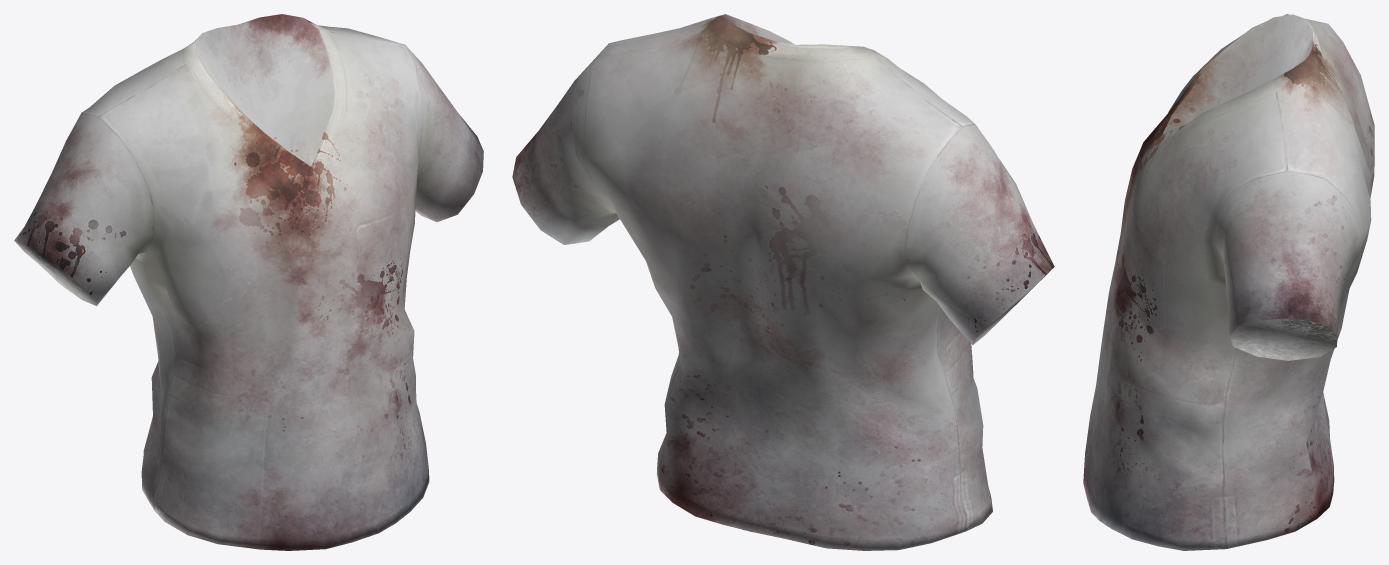
Rendered from SurvivorMale_Chest_Shirt_Scrubs_LOD0.glb.
3 views of the same model, side by side, from view 1: azimuth 30°, elevation 25°; view 2: azimuth 150°, elevation 25°; view 3: azimuth 270°, elevation 25° (orthographic). The views are drawn at different scales.
Visible parts, largest first — view 1: Hoodie; view 2: Hoodie; view 3: Hoodie.
Part boxes in pixels (left/top/right/bottom): Hoodie: left=14, top=14, right=483, bottom=550; Hoodie: left=512, top=14, right=1054, bottom=550; Hoodie: left=1083, top=14, right=1374, bottom=550.
Bounding box in the file's own units: 0.6579 × 0.6191 × 0.3576.
1 material, 1 textured.
